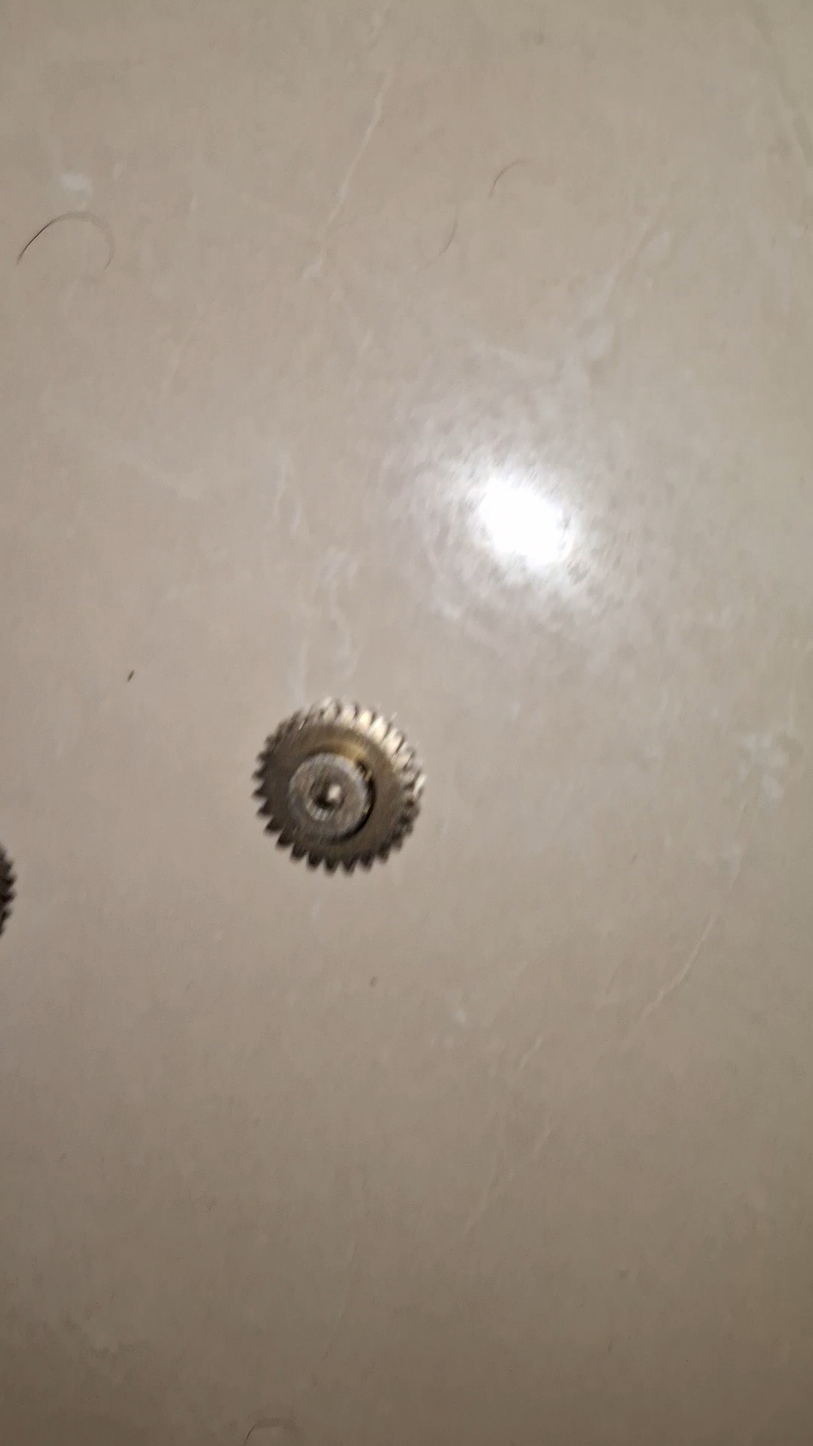spur gear: (255, 699, 423, 871), (0, 847, 15, 934)
